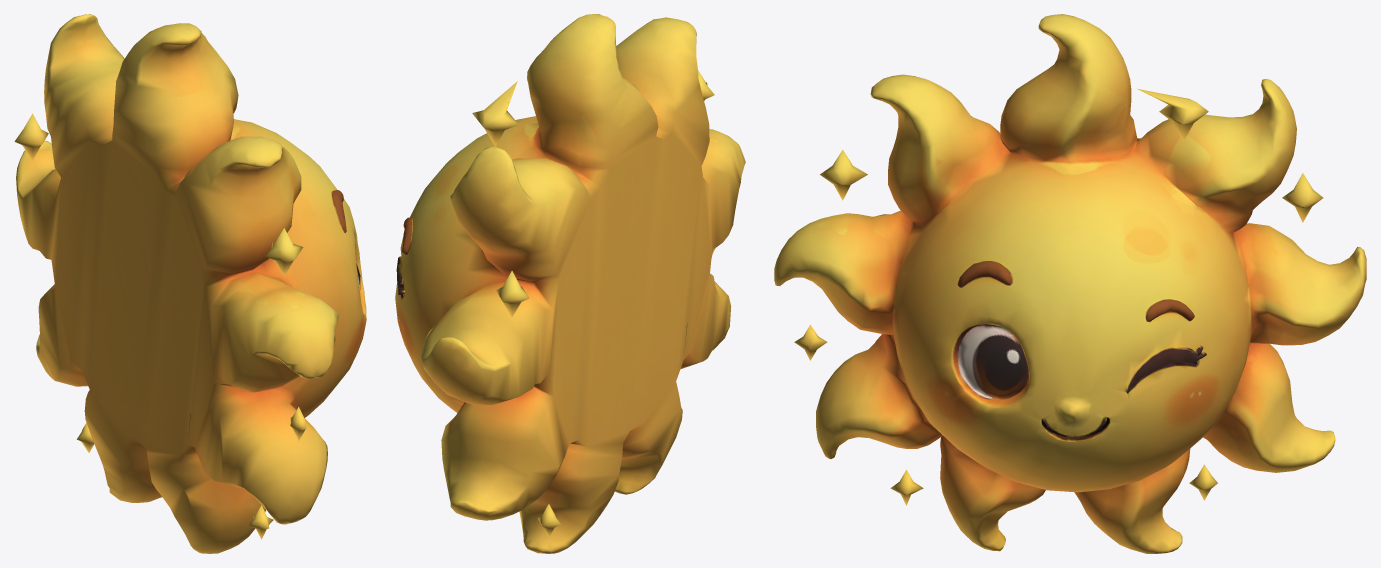
File: pet_sunny_sun_raw.glb
3 views of the same model, side by side, from view 1: azimuth 30°, elevation 25°; view 2: azimuth 150°, elevation 25°; view 3: azimuth 270°, elevation 25° (orthographic). The views are drawn at different scales.
Parts seen in each view (by area): view 1: tripo_node_1c0b6246-43a9-45b7-a4b4-e3d0b969b09b; view 2: tripo_node_1c0b6246-43a9-45b7-a4b4-e3d0b969b09b; view 3: tripo_node_1c0b6246-43a9-45b7-a4b4-e3d0b969b09b.
Boxes of the visible parts, box(x1,y1,x2,y2) form: tripo_node_1c0b6246-43a9-45b7-a4b4-e3d0b969b09b: box(14, 14, 366, 553); tripo_node_1c0b6246-43a9-45b7-a4b4-e3d0b969b09b: box(395, 14, 745, 553); tripo_node_1c0b6246-43a9-45b7-a4b4-e3d0b969b09b: box(774, 14, 1366, 553).
Bounding box in the file's own units: 0.4746 × 0.9824 × 0.998.
1 material, 1 textured.
